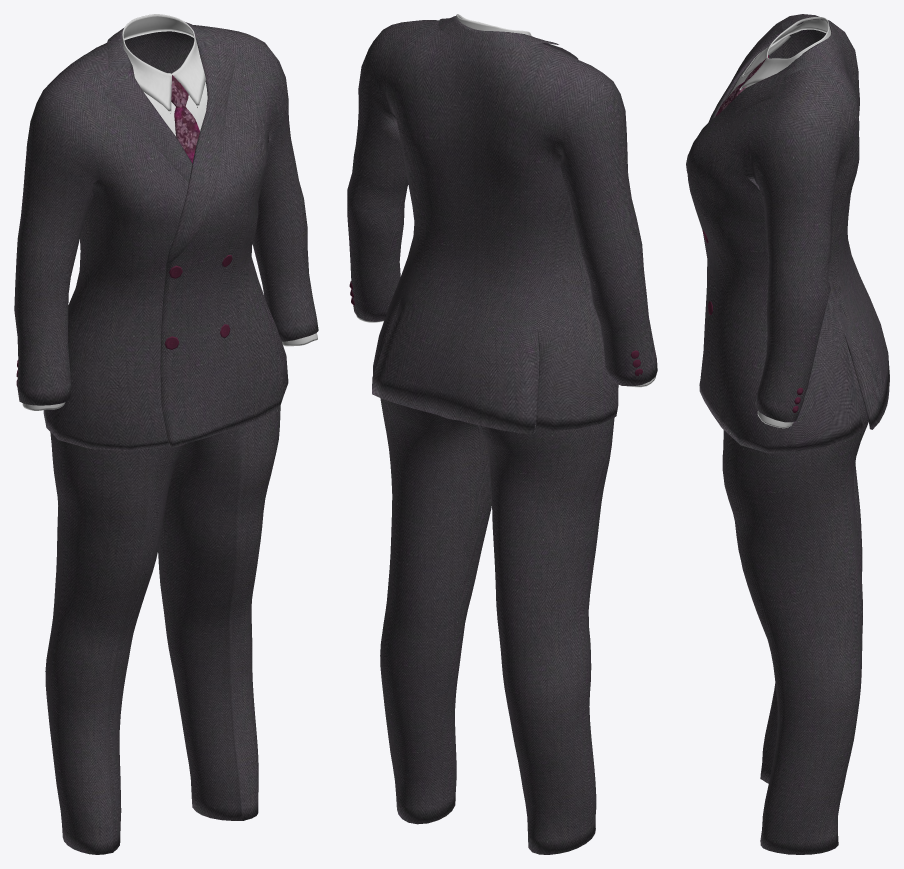
File: full_trouser_suit_f.gltf
The picture shows the model from 3 angles, left to right: view 1: azimuth 30°, elevation 25°; view 2: azimuth 150°, elevation 25°; view 3: azimuth 270°, elevation 25°; orthographic projection. The views are drawn at different scales.
Parts seen in each view (by area): view 1: full_trouser_suit_f; view 2: full_trouser_suit_f; view 3: full_trouser_suit_f.
Boxes of the visible parts, x1,y1,x2,y2 form: full_trouser_suit_f: [14, 14, 318, 854]; full_trouser_suit_f: [347, 14, 657, 854]; full_trouser_suit_f: [686, 14, 889, 854].
Size of the model in its own units: 0.5153 by 1.34 by 0.3137.
1 material, 1 textured.
